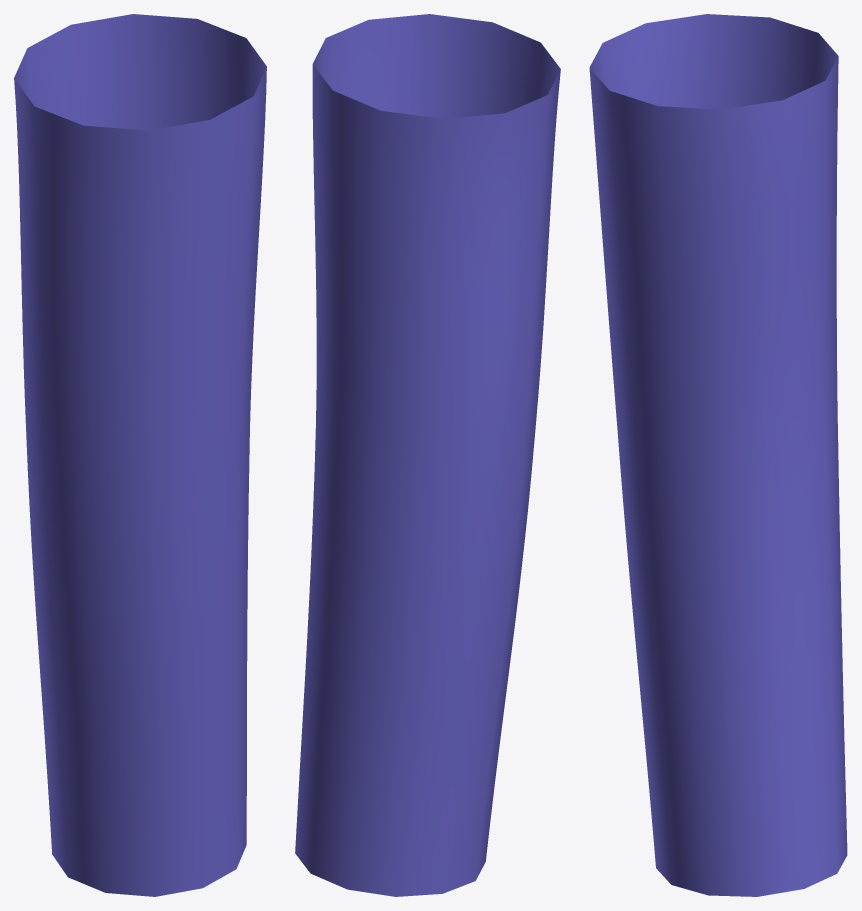
The model's file is Inferior_vena_cava.001_BezierCurve.034.glb.
The picture shows the model from 3 angles, left to right: view 1: azimuth 30°, elevation 25°; view 2: azimuth 150°, elevation 25°; view 3: azimuth 270°, elevation 25°; orthographic projection.
Parts seen in each view (by area): view 1: Inferior_vena_cava.001_BezierCurve.034; view 2: Inferior_vena_cava.001_BezierCurve.034; view 3: Inferior_vena_cava.001_BezierCurve.034.
Boxes of the visible parts, x1=… form: Inferior_vena_cava.001_BezierCurve.034: x1=14, y1=14, x2=266, y2=896; Inferior_vena_cava.001_BezierCurve.034: x1=295, y1=14, x2=560, y2=896; Inferior_vena_cava.001_BezierCurve.034: x1=589, y1=14, x2=847, y2=896.
Bounding box in the file's own units: 0.0263 × 0.0917 × 0.0269.
